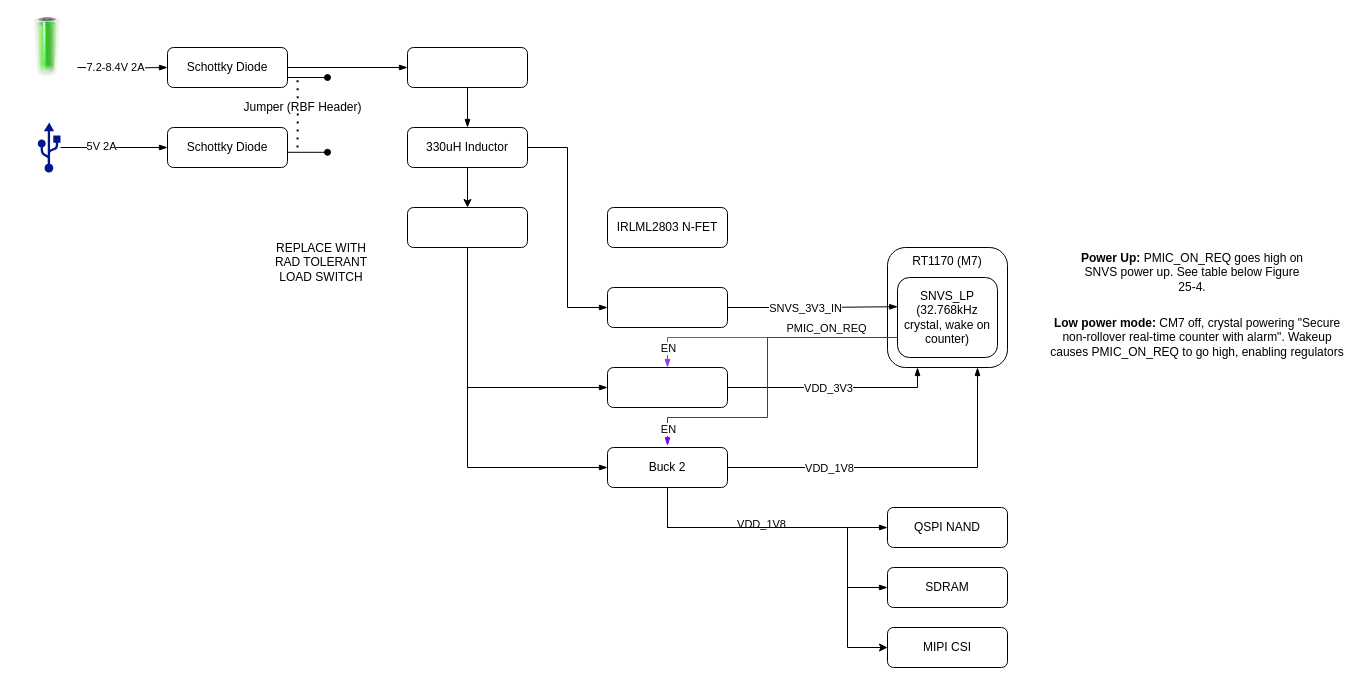
This 1364x685 diagram has some shape labels left out. Here are the shapes that lost their labels. From the top down, the centre of each, then its label:
point (467, 67): Sense Resistor
point (48, 147): USB-C
point (467, 227): NDS8434 P-FET
point (667, 307): LDO
point (667, 387): Buck 1
